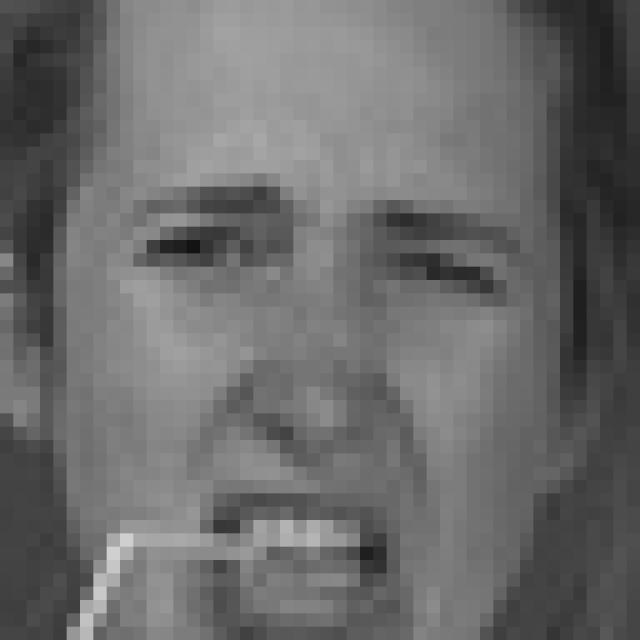disgust: (121, 178, 532, 640)
